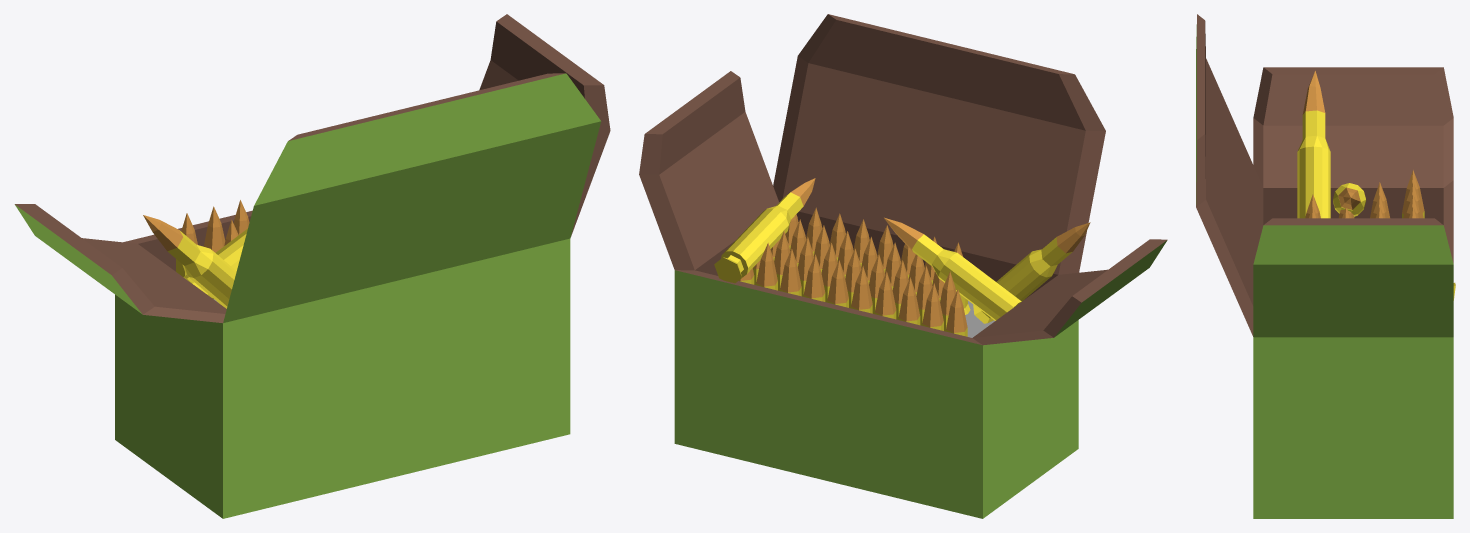
The model's file is AmmoBox.fbx.
3 views of the same model, side by side, from view 1: azimuth 30°, elevation 25°; view 2: azimuth 150°, elevation 25°; view 3: azimuth 270°, elevation 25° (orthographic). The views are drawn at different scales.
Parts seen in each view (by area): view 1: model; view 2: model; view 3: model.
Boxes of the visible parts, left/top/right/bottom form: model: left=14, top=14, right=610, bottom=518; model: left=639, top=14, right=1167, bottom=518; model: left=1196, top=14, right=1455, bottom=518.
Bounding box in the file's own units: 36.93 × 18.14 × 28.
